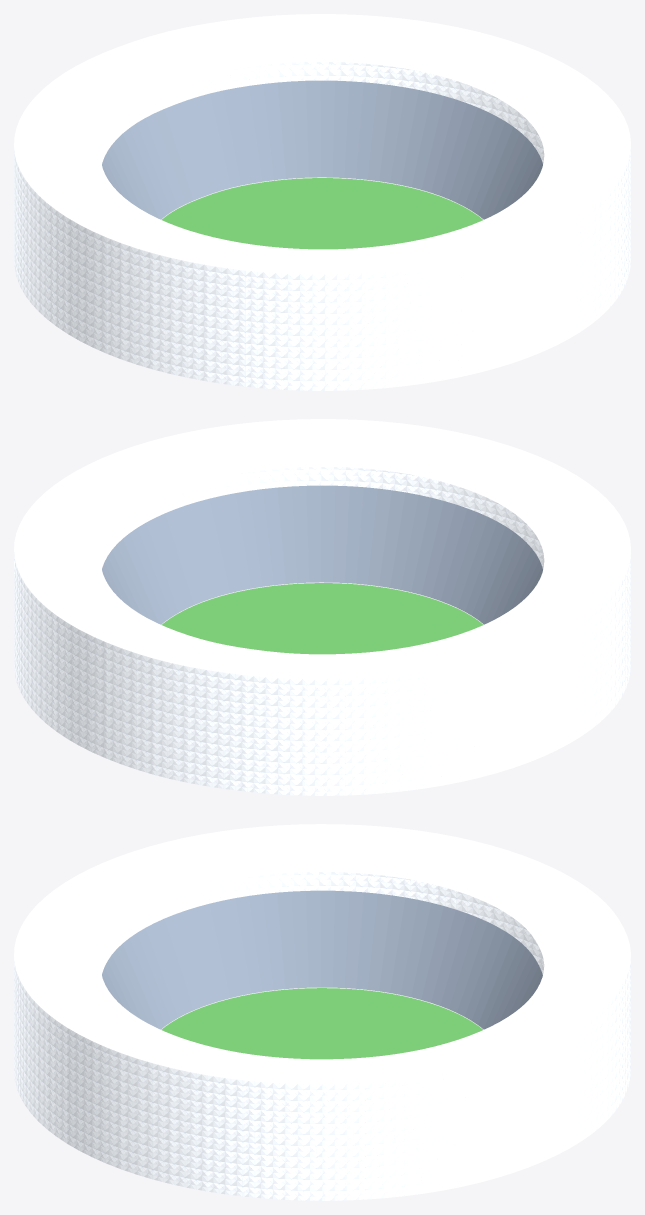
Rendered from landmark-olympic-stadium.glb.
3 views of the same model, one above another, from view 1: azimuth 30°, elevation 25°; view 2: azimuth 150°, elevation 25°; view 3: azimuth 270°, elevation 25° (orthographic).
Parts seen in each view (by area): view 1: olympic-stadium; view 2: olympic-stadium; view 3: olympic-stadium.
Boxes of the visible parts, x1,y1,x2,y2 form: olympic-stadium: (14,14,630,390); olympic-stadium: (14,419,630,795); olympic-stadium: (14,824,630,1200).
Size of the model in its own units: 299 by 62.15 by 299.
4 materials, 1 textured.
